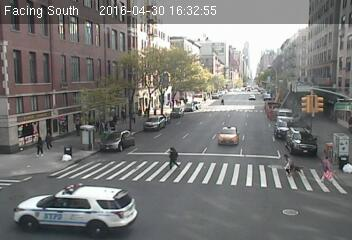neg: (49, 51, 78, 90), (122, 61, 147, 95), (75, 117, 99, 149), (298, 86, 322, 118), (142, 99, 165, 131), (215, 117, 238, 147), (198, 85, 221, 115), (271, 42, 291, 68), (242, 81, 261, 107), (7, 78, 25, 101), (111, 132, 128, 155), (63, 146, 73, 159)
pos: (163, 144, 183, 171), (279, 153, 299, 178), (319, 156, 338, 181), (43, 127, 57, 146), (31, 137, 44, 154)
